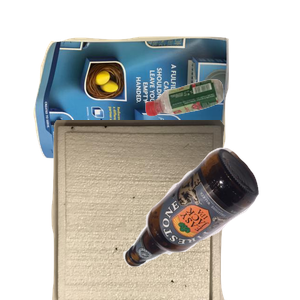glass: (120, 145, 300, 300)
paper: (31, 34, 252, 205)
plastic: (142, 77, 300, 186)
trash: (49, 120, 269, 300)
